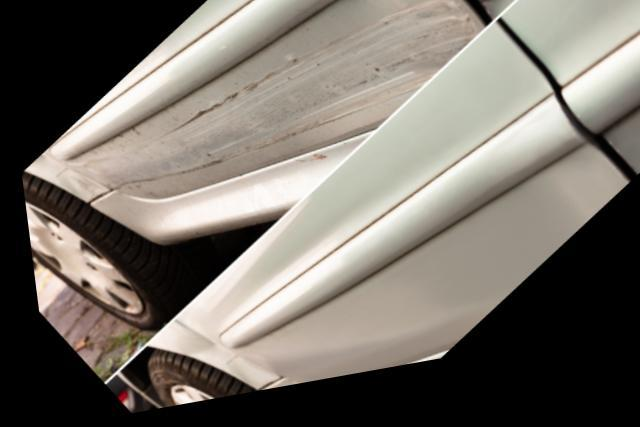scratch: (106, 0, 475, 200), (462, 0, 516, 27)
